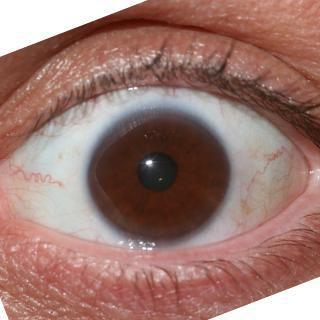iris: (90, 103, 229, 242)
